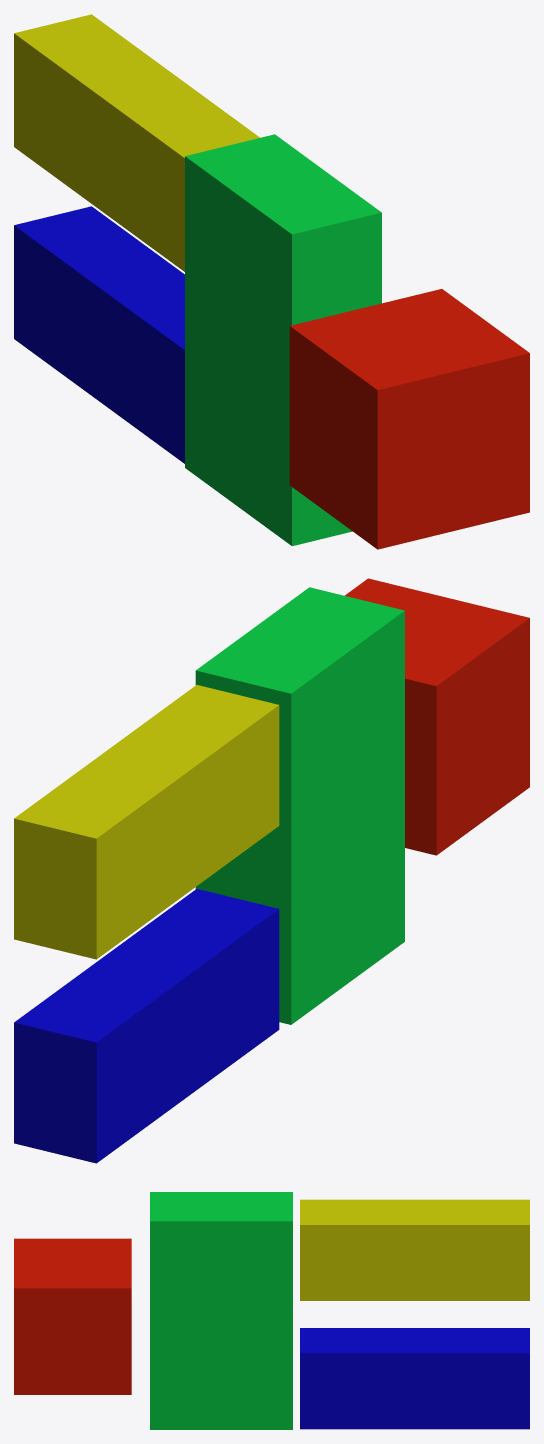
3 views of the same model, one above another, from view 1: azimuth 30°, elevation 25°; view 2: azimuth 150°, elevation 25°; view 3: azimuth 270°, elevation 25° (orthographic). The views are drawn at different scales.
Parts seen in each view (by area): view 1: torso, head, right_leg, left_leg; view 2: torso, left_leg, right_leg, head; view 3: torso, left_leg, right_leg, head.
Part boxes in pixels (box(x1,y1,x2,y2)): torso: box(185, 134, 381, 546); head: box(289, 289, 529, 549); right_leg: box(14, 14, 259, 271); left_leg: box(14, 206, 184, 463); torso: box(195, 587, 404, 1024); left_leg: box(14, 889, 279, 1163); right_leg: box(14, 685, 279, 959); head: box(345, 578, 529, 855); torso: box(150, 1192, 292, 1429); left_leg: box(300, 1328, 529, 1429); right_leg: box(300, 1199, 529, 1300); head: box(14, 1238, 131, 1394).
Bounding box in the file's own units: 1.02 × 2.01 × 4.49.
